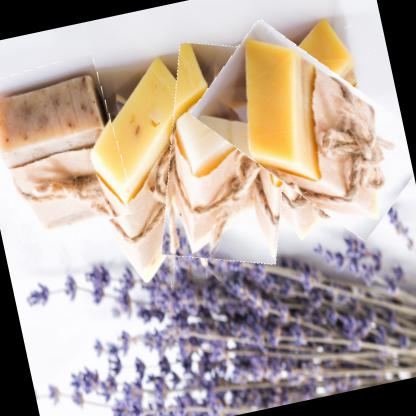soap: (202, 0, 415, 260), (134, 28, 322, 278), (0, 52, 135, 243)
